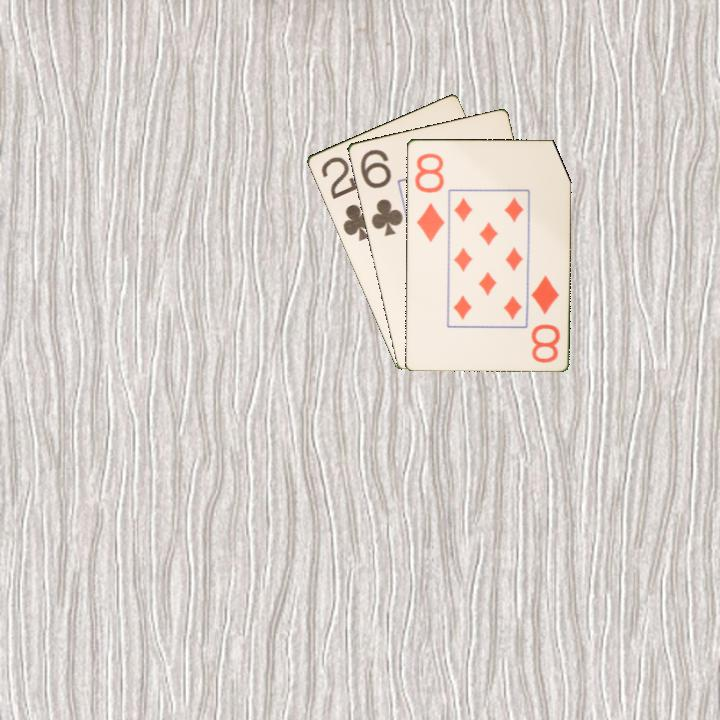2c: (317, 153, 377, 244)
6c: (356, 145, 406, 239)
8d: (411, 150, 447, 245), (527, 271, 562, 365)
